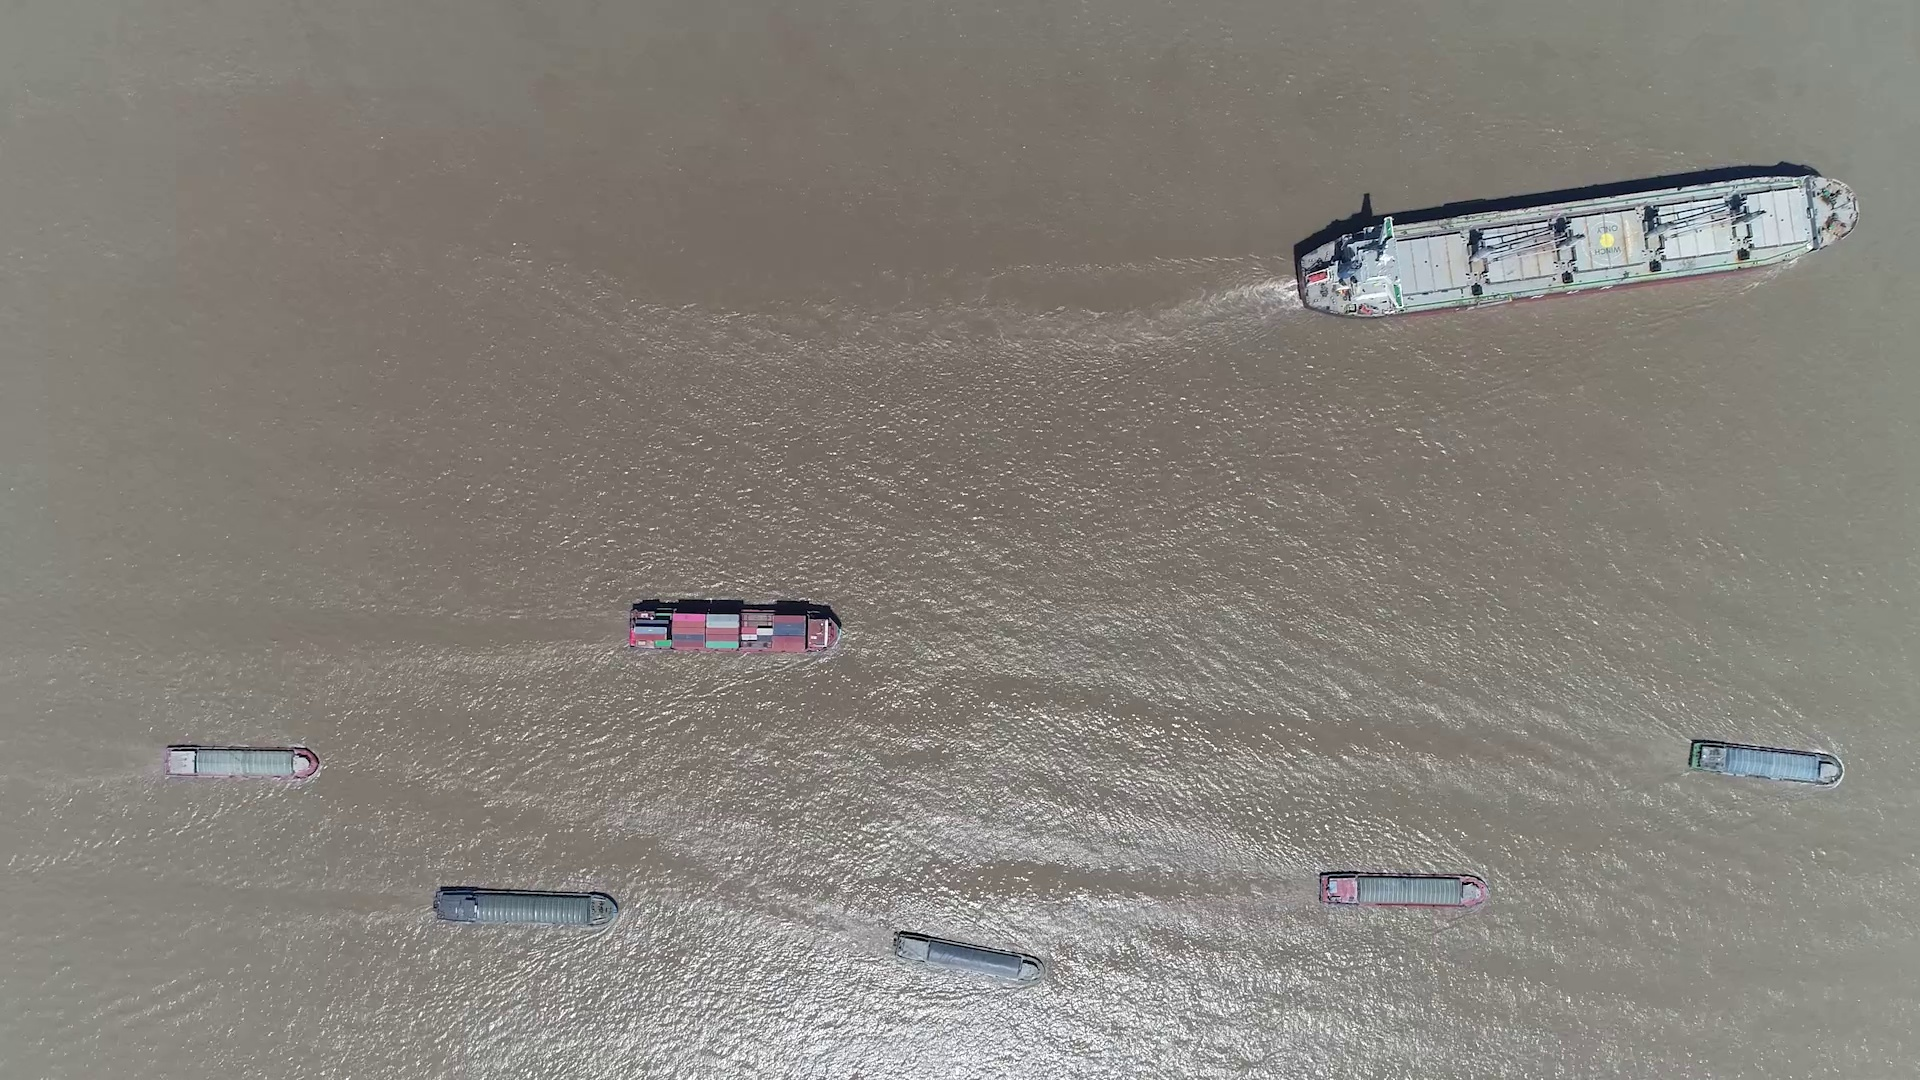ship: (1298, 174, 1858, 315), (628, 603, 840, 654), (894, 931, 1042, 982), (430, 886, 615, 927), (1688, 738, 1844, 786), (1317, 872, 1489, 910), (164, 744, 319, 781)
